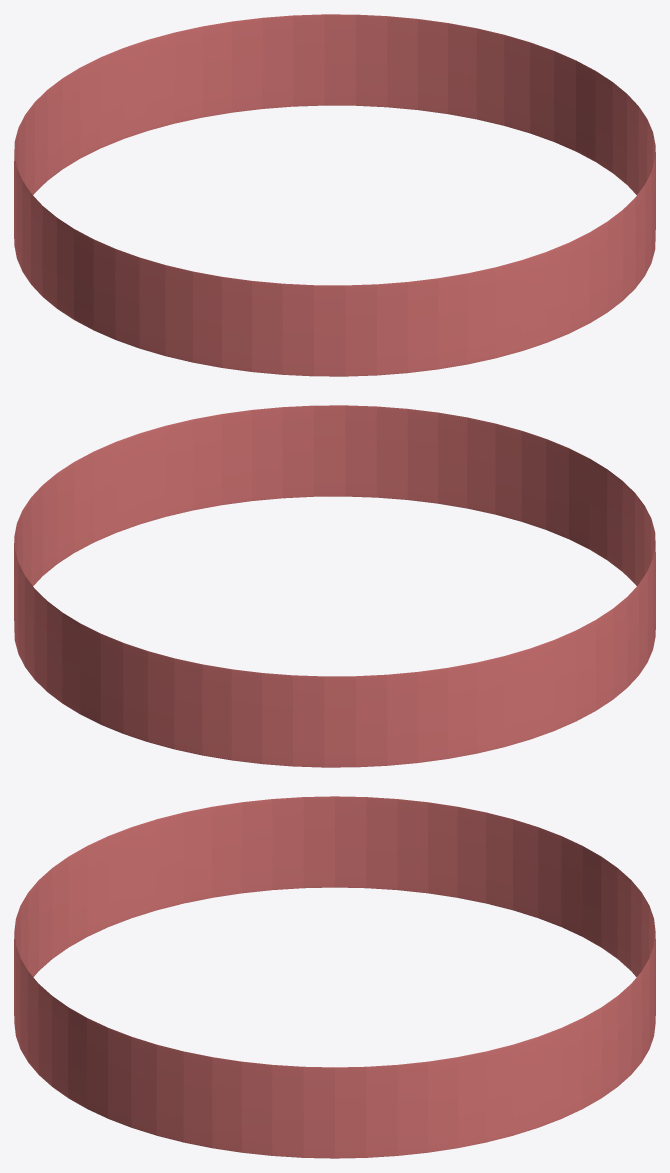
Rendered from MurWallRunTorus.fbx.
The picture shows the model from 3 angles, top to bottom: view 1: azimuth 30°, elevation 25°; view 2: azimuth 150°, elevation 25°; view 3: azimuth 270°, elevation 25°; orthographic projection.
Visible parts, largest first — view 1: Torus; view 2: Torus; view 3: Torus.
Part boxes in pixels (<box>): Torus: <box>14,14,655,376</box>; Torus: <box>14,405,655,767</box>; Torus: <box>14,796,655,1158</box>.
Size of the model in its own units: 300 by 47 by 300.
